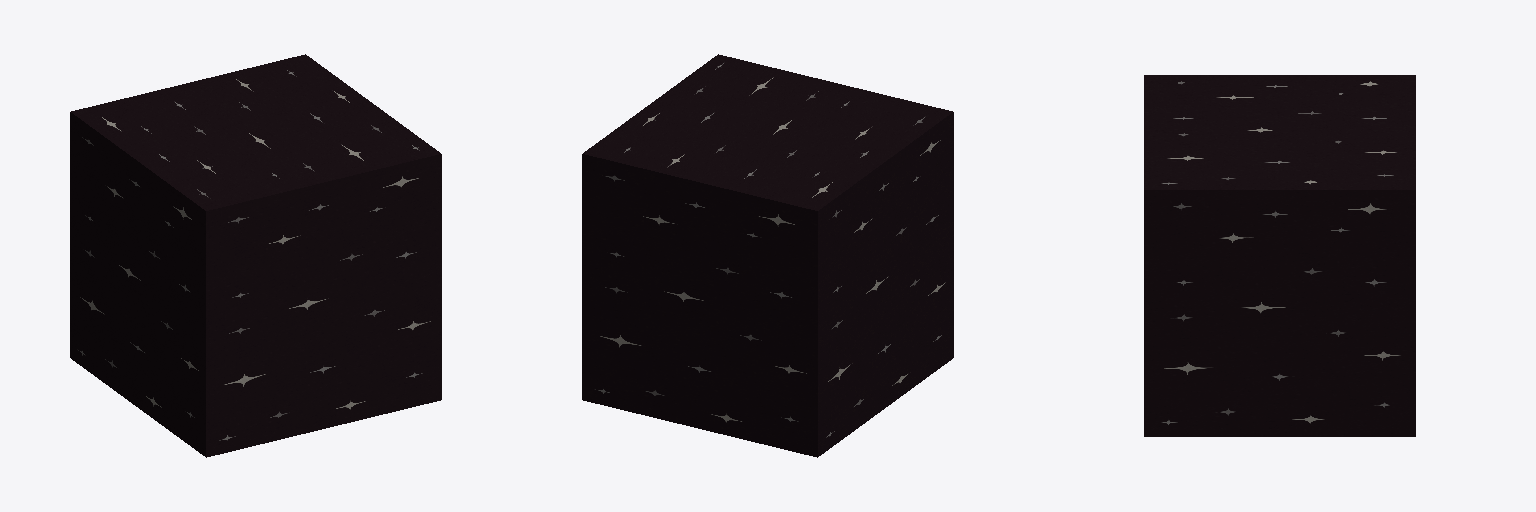
3 views of the same model, side by side, from view 1: azimuth 30°, elevation 25°; view 2: azimuth 150°, elevation 25°; view 3: azimuth 270°, elevation 25° (orthographic).
Visible parts, largest first — view 1: Cube; view 2: Cube; view 3: Cube.
Part boxes in pixels (bbox=[...]): Cube: bbox=[70, 54, 441, 457]; Cube: bbox=[582, 54, 953, 457]; Cube: bbox=[1144, 75, 1415, 436].
Bounding box in the file's own units: 2 × 2 × 2.
1 materials, 1 textured.